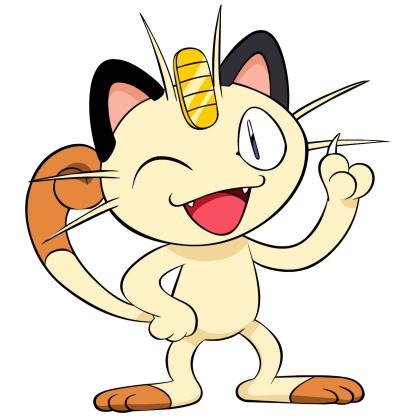Meowth: (25, 5, 381, 413)
